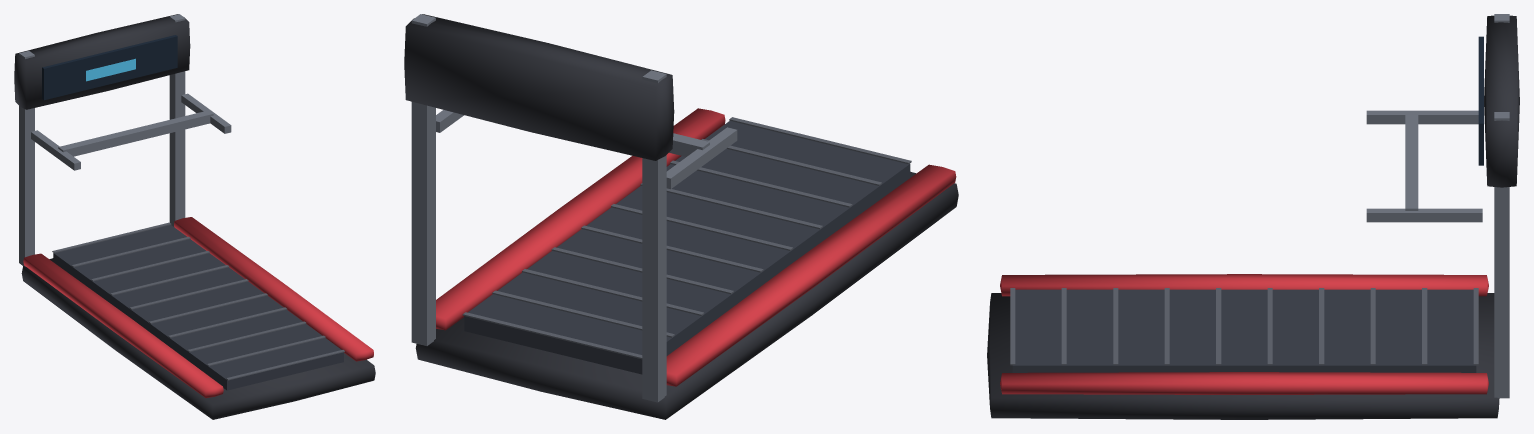
Rendered from treadmill.glb.
3 views of the same model, side by side, from view 1: azimuth 30°, elevation 25°; view 2: azimuth 150°, elevation 25°; view 3: azimuth 270°, elevation 25° (orthographic). The views are drawn at different scales.
Parts seen in each view (by area): view 1: root; view 2: root; view 3: root.
Boxes of the visible parts, <box> form: root: <box>14,14,375,419</box>; root: <box>404,14,958,419</box>; root: <box>987,14,1519,419</box>.
Bounding box in the file's own units: 1.02 × 1.3 × 2.07.
